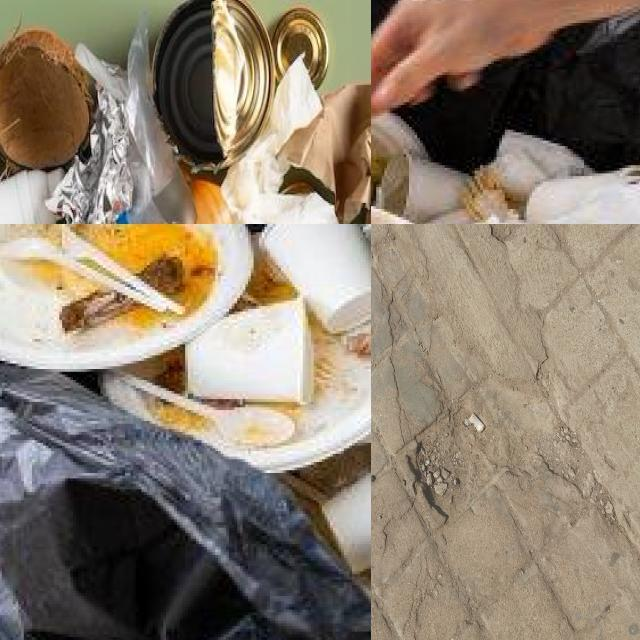Background: (371, 224, 640, 640)
Cig_bud: (469, 413, 486, 432)
Garbage: (0, 224, 371, 598), (0, 0, 371, 224), (371, 118, 640, 224)
contaminated_waste: (0, 0, 335, 224), (0, 224, 191, 321), (108, 368, 314, 443), (526, 166, 640, 224), (526, 173, 621, 224)
